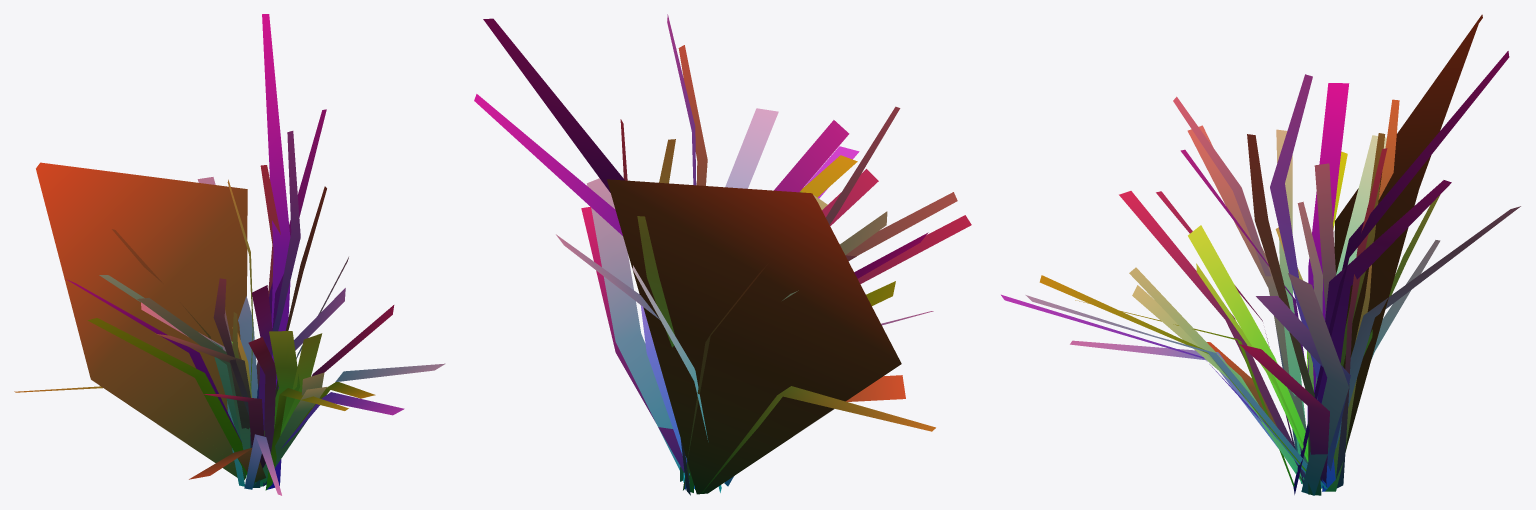
The model's file is Wild_Grass_sjliZ_Mid_sjliZ_VarC_LOD1.fbx.
The picture shows the model from 3 angles, left to right: view 1: azimuth 30°, elevation 25°; view 2: azimuth 150°, elevation 25°; view 3: azimuth 270°, elevation 25°; orthographic projection. The views are drawn at different scales.
Parts seen in each view (by area): view 1: _28ba_VarC_LOD2; view 2: _28ba_VarC_LOD2; view 3: _28ba_VarC_LOD2.
Part boxes in pixels (bbox=[...]): _28ba_VarC_LOD2: bbox=[14, 14, 445, 495]; _28ba_VarC_LOD2: bbox=[474, 14, 971, 495]; _28ba_VarC_LOD2: bbox=[1001, 14, 1520, 495].
Bounding box in the file's own units: 57.29 × 65.04 × 63.13.
